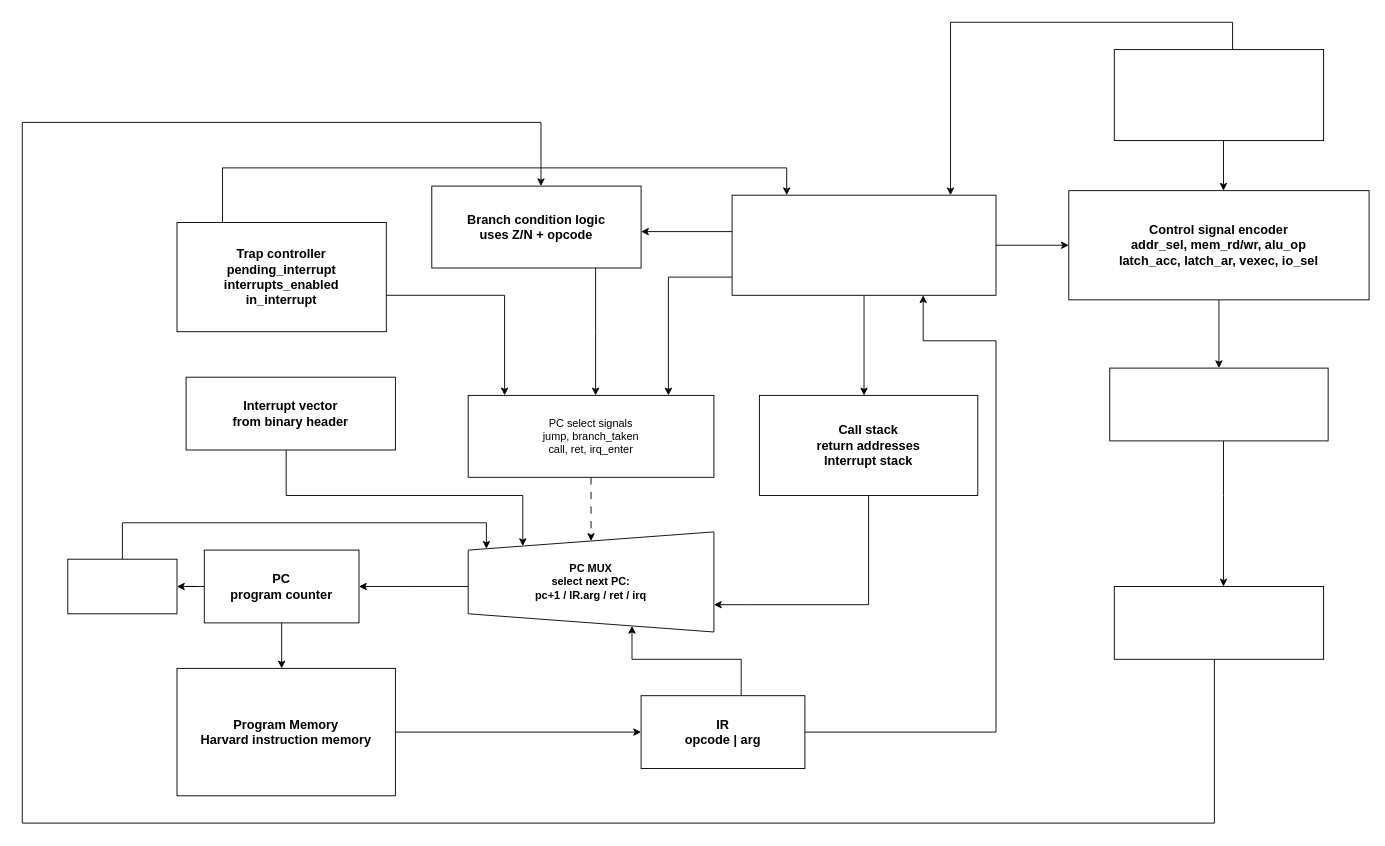
The diagram is 1385 pixels wide and 846 high, and some of its shapes have lost their labels. Here are the shapes that lost their labels. From the top down, the centre of each, then its label:
pixel 1218 95: Tick / step counter fetch, addr, mem exec, alu, vexec, irq
pixel 863 244: Opcode decoder NOP/HALT/LD/ST/ALU/JMP/CALL/VEC
pixel 1218 404: DataPath flags in, controls out
pixel 122 586: +1 next sequential PC
pixel 1218 622: Flags from DataPath Z, N
